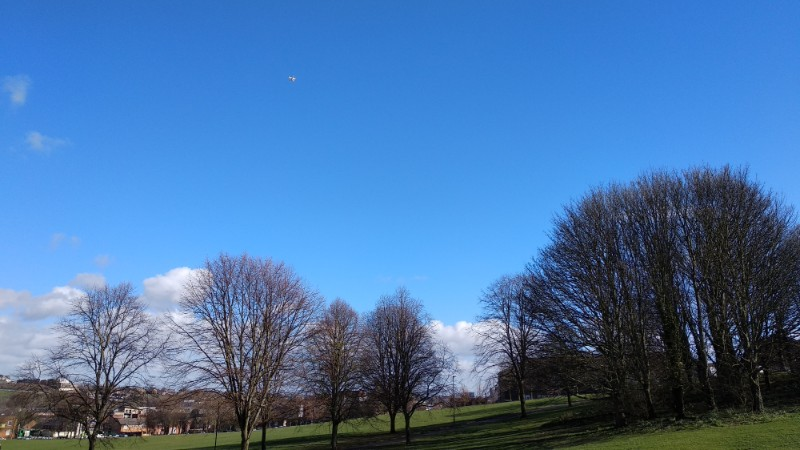drone: (286, 73, 299, 83)
